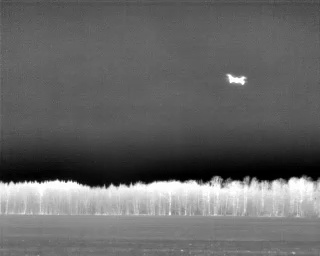DRONE: (223, 69, 250, 90)
